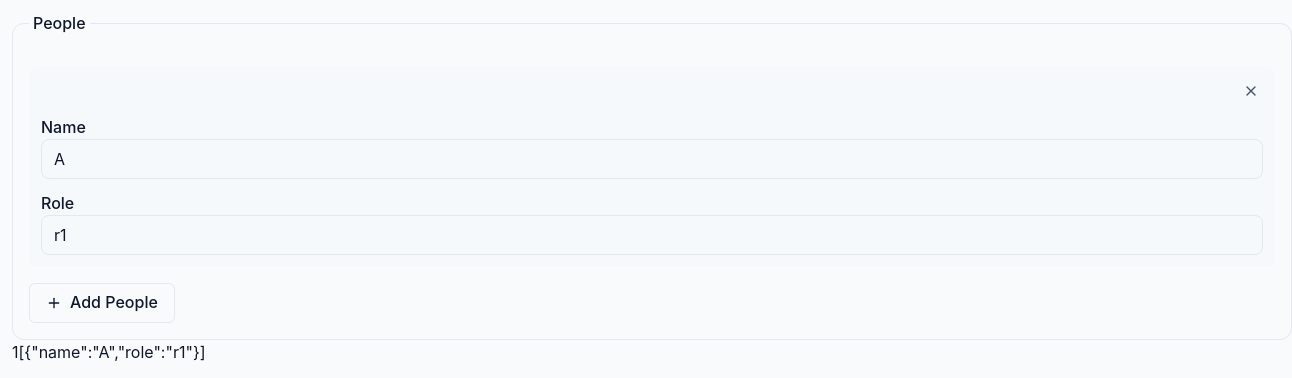
Scenario: RepeatableFieldset › edits only the targeted cell, immutably
The image size is (1292, 378).
Type "X" into the field labelled "Name" at (652, 159), box [41, 139, 1263, 179]
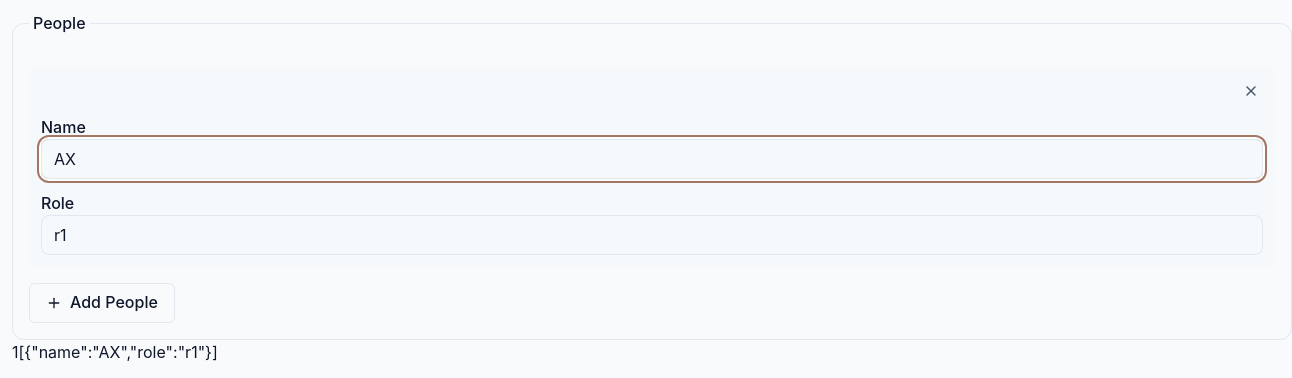
Check: the text with test id "dump" reads "[{\"name\":\"AX\",\"role\":\"r1\"}]", box [18, 342, 218, 362]
